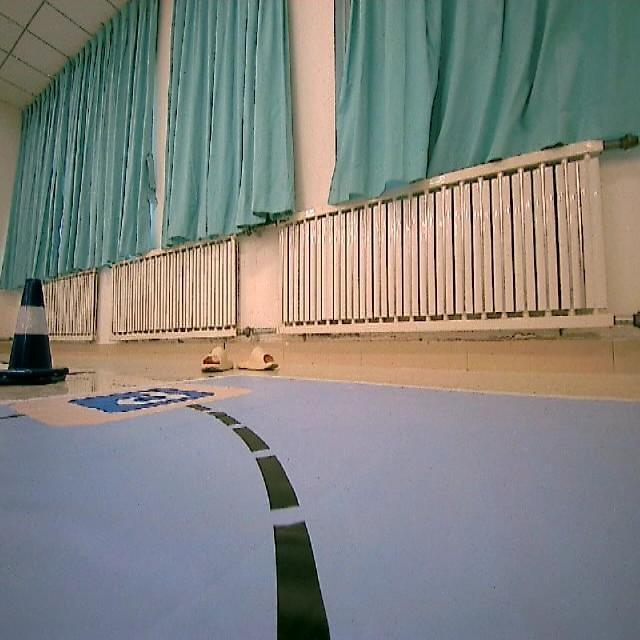obstacle: (0, 278, 71, 388)
